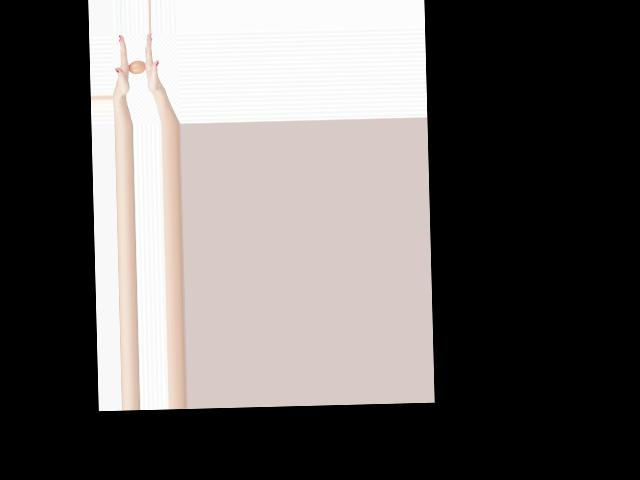egg: (129, 61, 146, 74)
